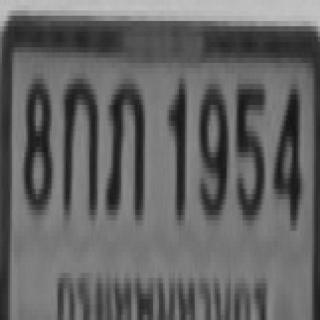A01: (62, 74, 95, 210)
A32: (104, 76, 142, 212)
N01: (167, 79, 185, 215)
N04: (272, 84, 300, 220)
N05: (235, 79, 262, 215)
N08: (22, 74, 50, 210)
N09: (197, 79, 225, 215)
